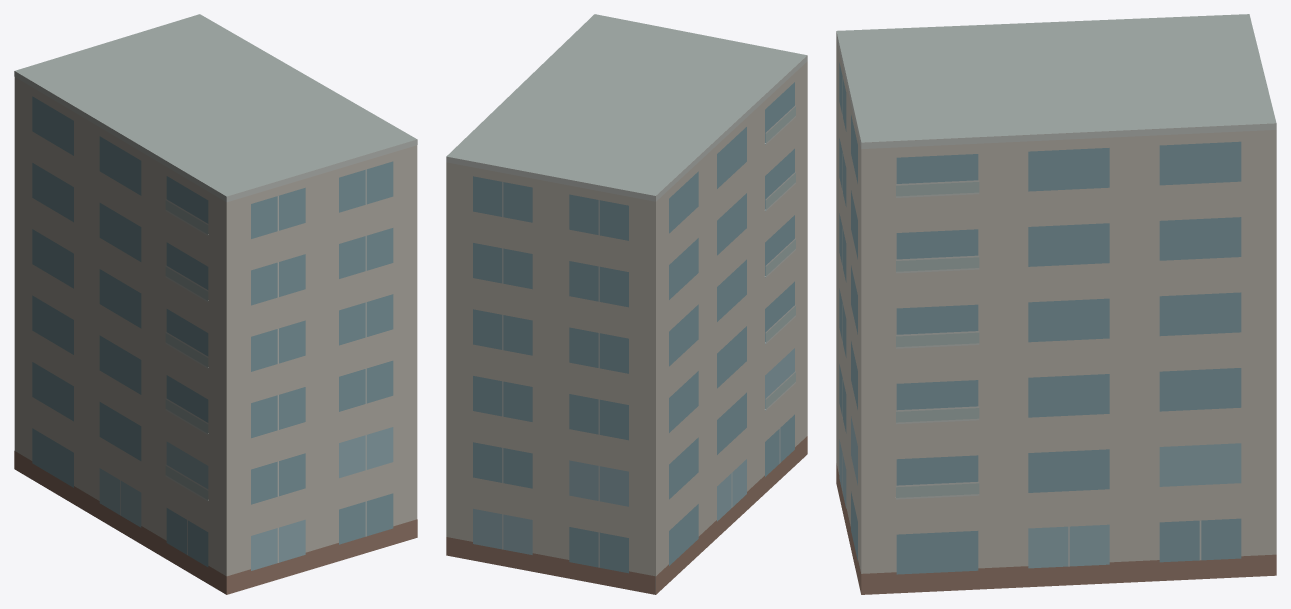
File: survey-upis-33047594.glb
3 views of the same model, side by side, from view 1: azimuth 30°, elevation 25°; view 2: azimuth 150°, elevation 25°; view 3: azimuth 270°, elevation 25° (orthographic). The views are drawn at different scales.
Visible parts, largest first — view 1: survey-upis-33047594.tmp; view 2: survey-upis-33047594.tmp; view 3: survey-upis-33047594.tmp.
Part boxes in pixels (<box>): survey-upis-33047594.tmp: <box>14,14,417,594</box>; survey-upis-33047594.tmp: <box>446,14,807,594</box>; survey-upis-33047594.tmp: <box>836,14,1276,594</box>.
Bounding box in the file's own units: 10.25 × 16.8 × 14.83.
